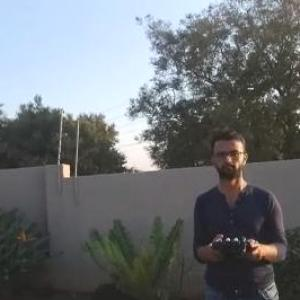follow: (188, 123, 296, 299)
